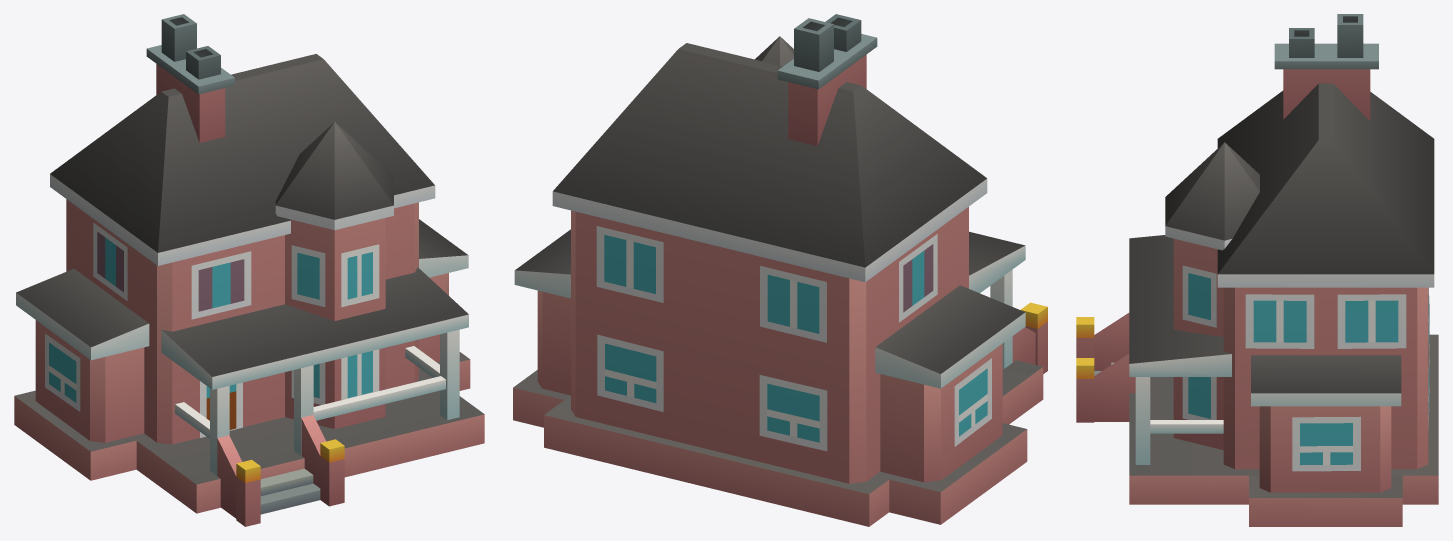
The model's file is Building_cartoon_2.fbx.
The picture shows the model from 3 angles, left to right: view 1: azimuth 30°, elevation 25°; view 2: azimuth 150°, elevation 25°; view 3: azimuth 270°, elevation 25°; orthographic projection. The views are drawn at different scales.
Visible parts, largest first — view 1: Building_cartoon_2; view 2: Building_cartoon_2; view 3: Building_cartoon_2.
Part boxes in pixels (x1,y1,x2,y2): Building_cartoon_2: (14, 14, 484, 526); Building_cartoon_2: (513, 14, 1047, 526); Building_cartoon_2: (1076, 14, 1438, 526).
Bounding box in the file's own units: 1287 × 1260 × 1062.
